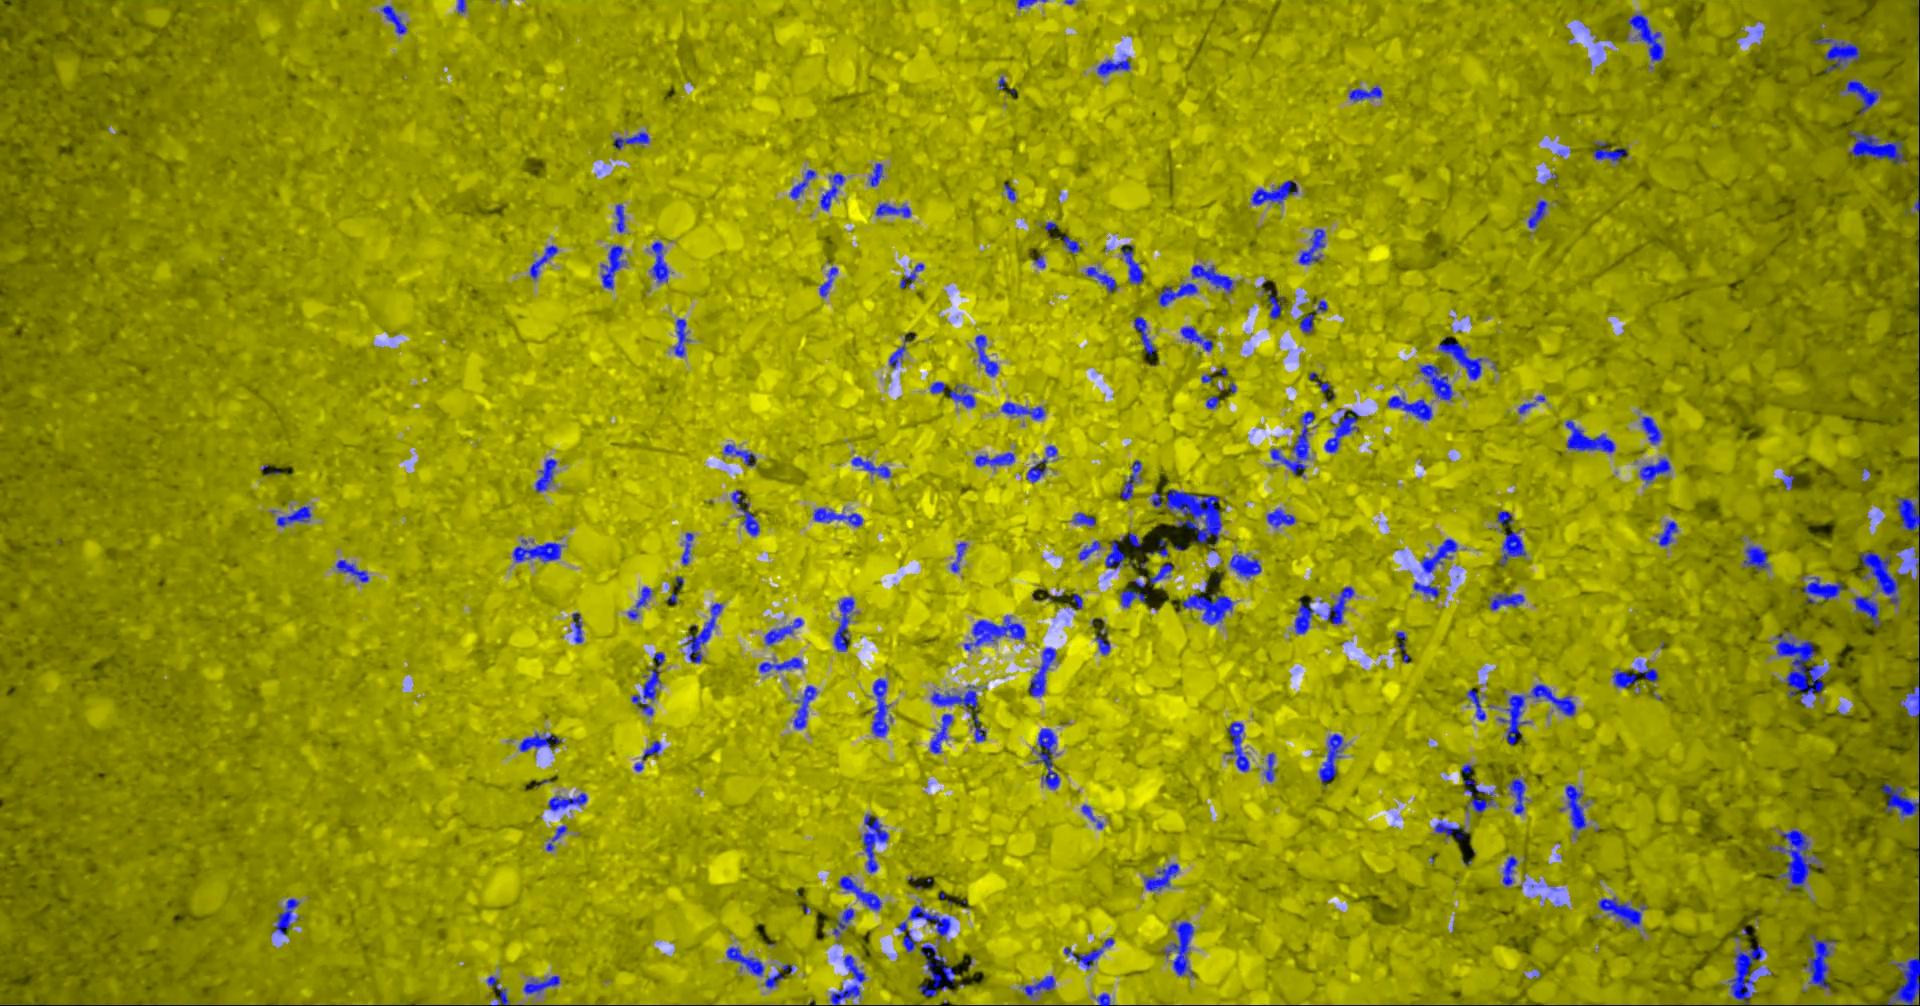ant: (1498, 683, 1577, 744), (932, 683, 987, 741), (1272, 412, 1316, 478), (1769, 829, 1813, 887), (1730, 944, 1768, 1005), (686, 603, 724, 662), (965, 615, 1026, 650), (632, 652, 665, 715), (1850, 130, 1909, 165), (1860, 551, 1900, 603), (1440, 337, 1488, 379), (919, 944, 957, 996), (832, 954, 867, 1005), (1183, 591, 1236, 624), (1813, 37, 1862, 72), (1629, 13, 1665, 60), (1164, 921, 1195, 976), (1806, 934, 1836, 988), (863, 813, 890, 873), (1326, 409, 1363, 452), (1567, 420, 1617, 452), (1065, 937, 1115, 969), (1888, 955, 1920, 1005), (1036, 728, 1062, 789), (1600, 895, 1650, 926), (841, 875, 883, 909), (910, 904, 952, 936), (1844, 80, 1882, 114), (1901, 672, 1920, 741), (733, 489, 761, 535), (1422, 539, 1459, 573), (1031, 647, 1057, 696), (1421, 365, 1455, 400), (1883, 782, 1920, 815), (1192, 264, 1236, 292), (1388, 395, 1434, 420), (1252, 180, 1299, 205), (1321, 733, 1343, 782), (836, 597, 856, 652), (514, 539, 563, 561), (1804, 575, 1844, 603), (1029, 445, 1058, 481), (728, 946, 764, 976), (1464, 777, 1495, 812), (1498, 530, 1528, 565), (766, 617, 804, 644), (872, 678, 890, 735), (1898, 483, 1920, 530), (1229, 721, 1250, 771), (602, 245, 625, 288), (795, 685, 818, 728), (1328, 586, 1355, 622), (977, 334, 999, 376), (1145, 862, 1180, 890), (1300, 227, 1326, 264), (931, 713, 954, 753), (1567, 784, 1587, 829), (531, 245, 559, 278), (822, 171, 846, 210), (1161, 282, 1199, 306), (815, 507, 863, 526), (1135, 316, 1158, 354), (276, 898, 300, 934), (1123, 245, 1144, 285), (629, 586, 654, 619), (1121, 460, 1142, 500), (1087, 265, 1117, 292), (1855, 596, 1882, 626), (635, 741, 662, 771), (1641, 457, 1672, 483), (1230, 553, 1262, 578), (651, 240, 670, 282), (521, 732, 563, 751), (1263, 281, 1285, 318), (1002, 401, 1046, 419), (853, 457, 891, 478), (1182, 326, 1214, 351), (337, 559, 370, 582), (382, 5, 408, 34), (791, 169, 817, 198), (725, 443, 757, 466), (549, 793, 589, 810), (1595, 141, 1629, 161), (278, 506, 312, 526), (759, 657, 804, 672), (537, 459, 557, 492), (488, 976, 510, 1005), (890, 337, 912, 367), (524, 976, 561, 993), (1745, 545, 1770, 570), (1025, 976, 1057, 996), (615, 131, 650, 149), (1297, 600, 1316, 633), (1107, 539, 1128, 569), (950, 384, 977, 406), (1468, 688, 1487, 720), (1642, 417, 1663, 445), (1098, 58, 1131, 76), (902, 263, 924, 288), (834, 908, 855, 936), (1491, 593, 1525, 610), (1510, 779, 1526, 813), (1436, 821, 1468, 838), (977, 452, 1016, 466), (1657, 521, 1679, 546), (822, 265, 839, 296), (1529, 199, 1548, 227), (676, 318, 690, 356), (1269, 508, 1297, 527), (1350, 86, 1384, 102), (877, 202, 912, 217), (1150, 561, 1175, 583), (547, 826, 569, 850), (1083, 804, 1103, 828), (1614, 669, 1639, 687), (952, 542, 968, 572), (1415, 580, 1441, 597), (1096, 627, 1112, 654), (1079, 540, 1102, 559), (1057, 235, 1081, 253), (1123, 589, 1147, 607), (1503, 855, 1517, 885), (1397, 631, 1410, 662), (1148, 539, 1170, 556), (683, 532, 695, 565), (766, 970, 785, 988), (573, 612, 584, 641), (871, 163, 885, 185), (904, 930, 918, 951), (1266, 752, 1276, 781), (1641, 664, 1658, 681), (1074, 512, 1097, 525), (1302, 312, 1316, 333), (617, 205, 626, 232), (1129, 532, 1144, 547), (1018, 0, 1048, 8), (1498, 511, 1514, 525), (1004, 183, 1017, 199), (931, 381, 947, 392), (1520, 401, 1537, 413), (1208, 395, 1222, 408), (1784, 474, 1796, 489), (1073, 593, 1084, 608), (1098, 993, 1111, 1005), (458, 0, 467, 11)
